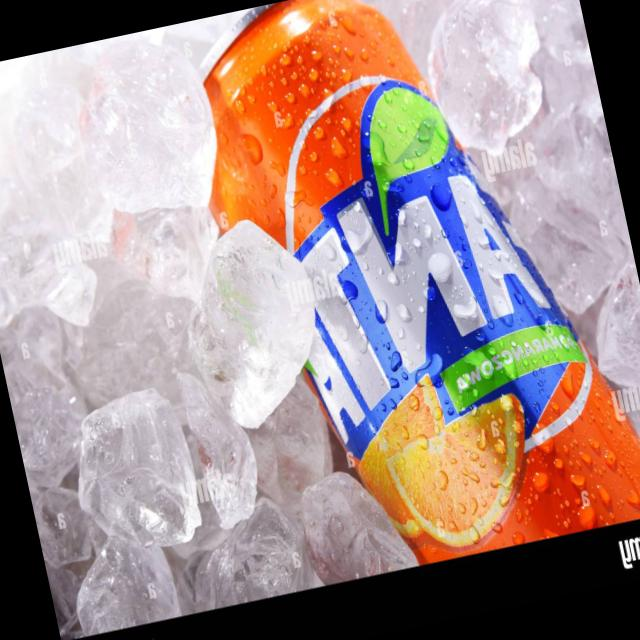fanta: (178, 0, 640, 584)
